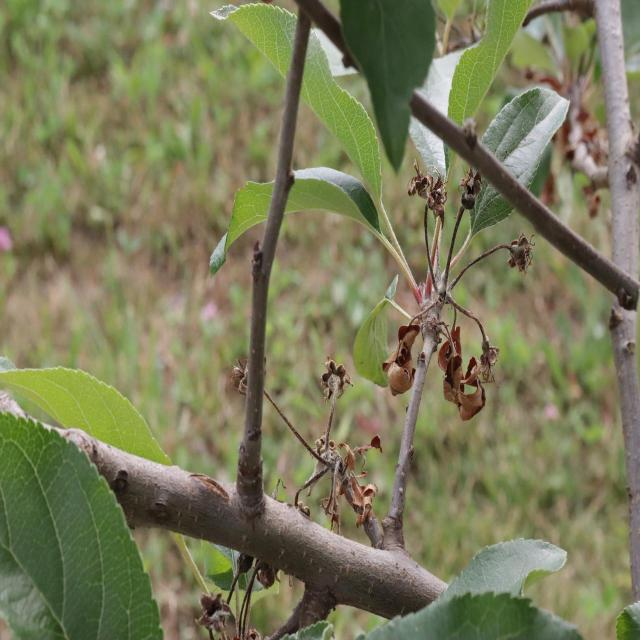-FireBlight-: (376, 295, 499, 409)
